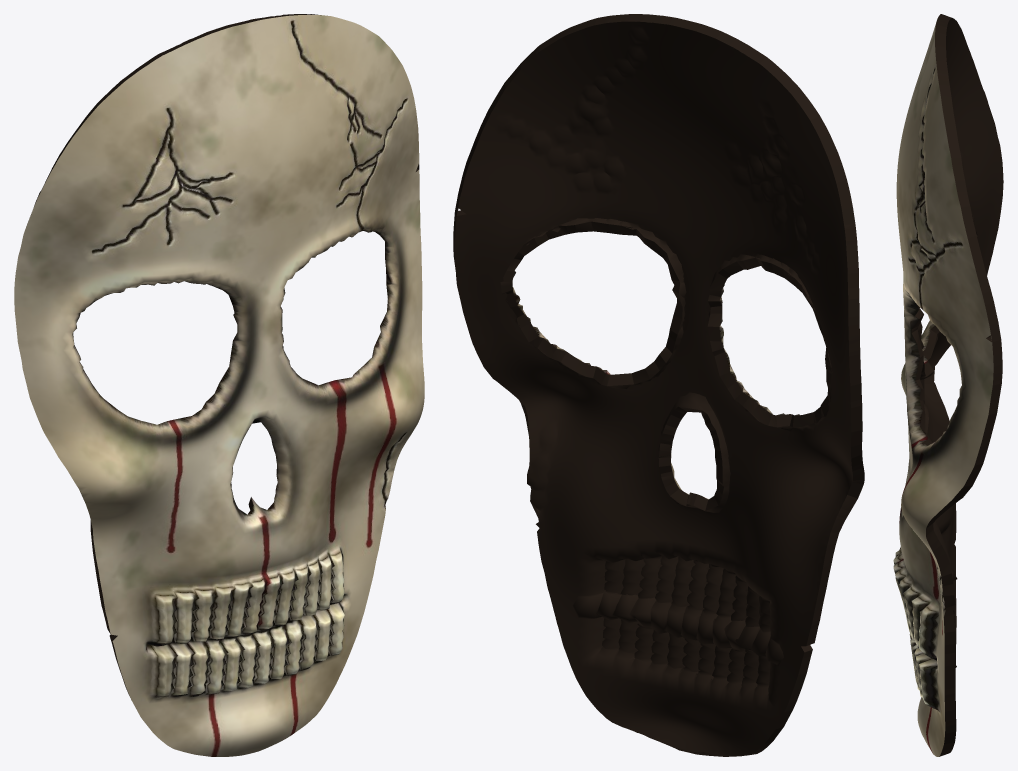
Rendered from 髑髏_dokuro.glb.
3 renders of one model, left to right at view 1: azimuth 30°, elevation 25°; view 2: azimuth 150°, elevation 25°; view 3: azimuth 270°, elevation 25°, orthographic. The views are drawn at different scales.
Visible parts, largest first — view 1: dokuro; view 2: dokuro; view 3: dokuro.
Boxes of the visible parts, x1,y1,x2,y2 form: dokuro: (14, 14, 424, 756); dokuro: (453, 14, 864, 756); dokuro: (893, 14, 1003, 756).
Bounding box in the file's own units: 0.1764 × 0.3036 × 0.0431.
Materials: 1 (1 with a texture image).
